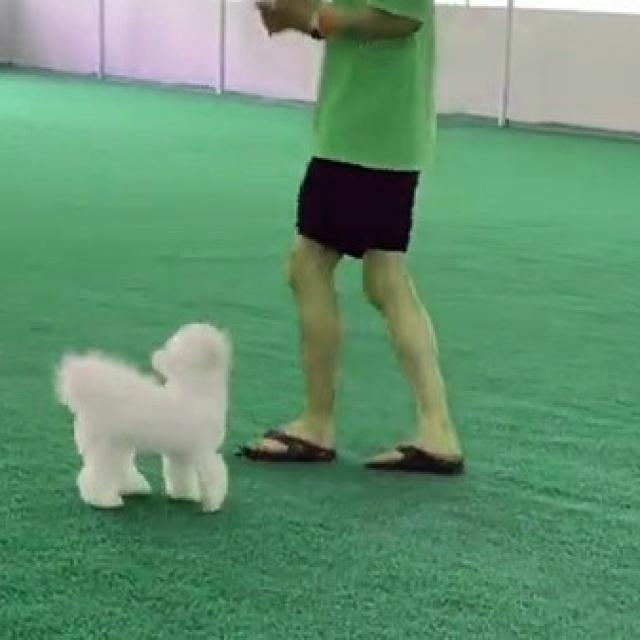Unleashed_Dog: (52, 321, 341, 508)
